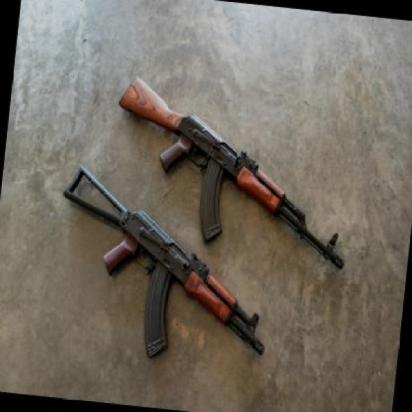Gun: (116, 77, 346, 270), (61, 166, 266, 358)
